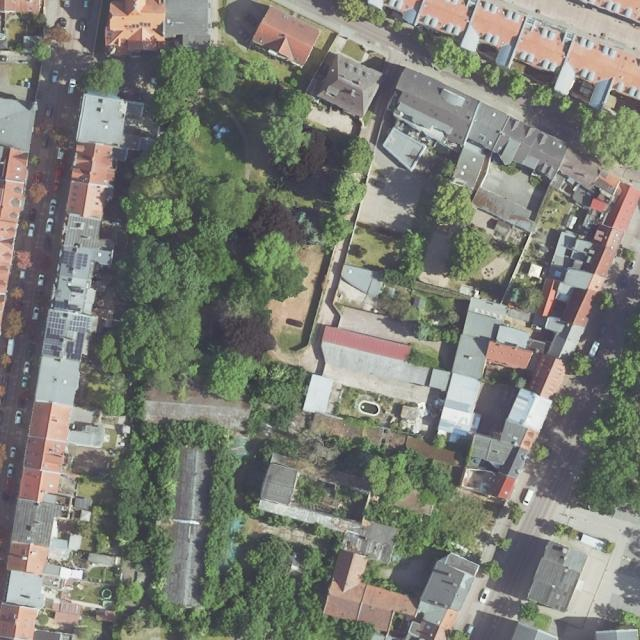PV: (42, 311, 86, 360), (62, 251, 88, 269), (53, 299, 81, 311)
